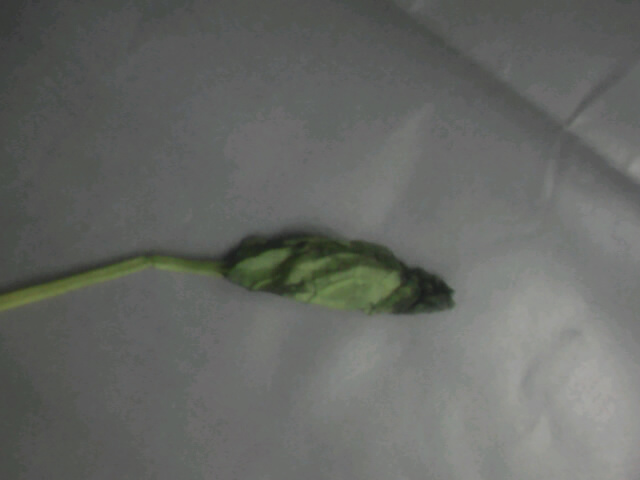yellow: (98, 221, 474, 341)
